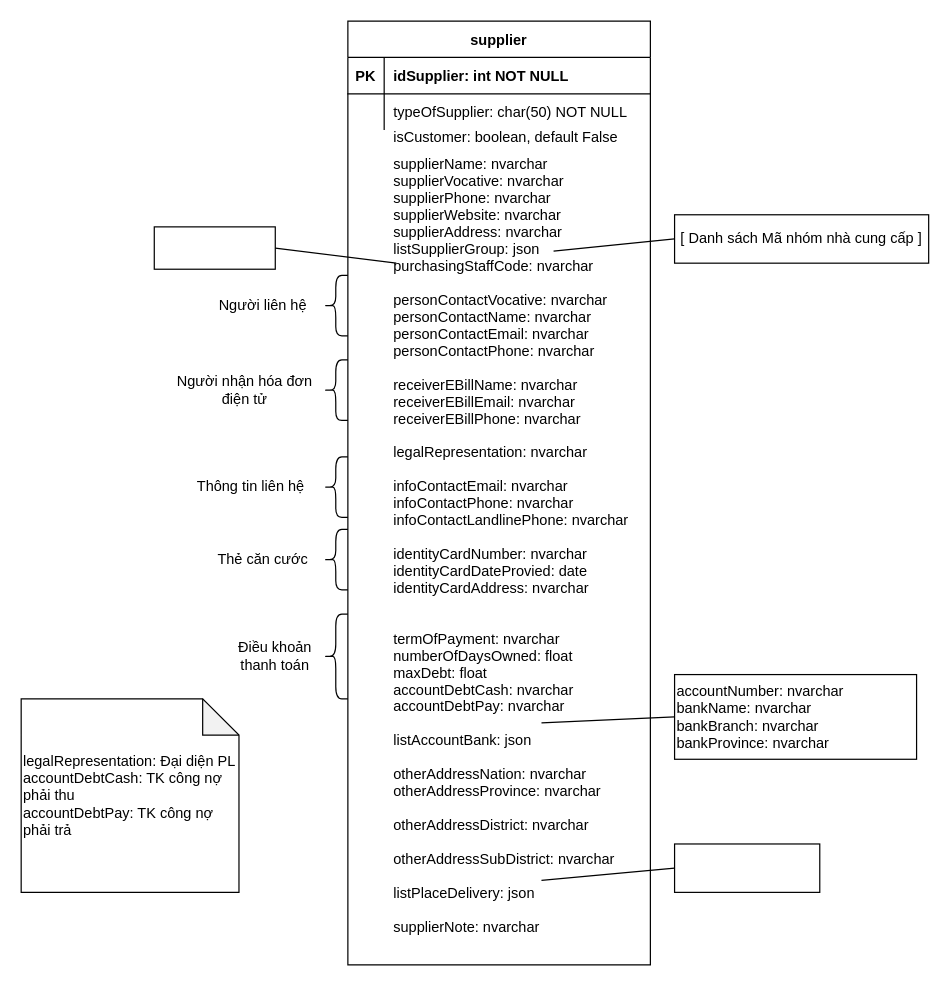
The diagram is 950 pixels wide and 990 high, and some of its shapes have lost their labels. The centre of each missing label's shape, as x and y in pixels:
"[ Danh sách địa chỉ ]" belongs at (746,867).
"Mã nhân viên mua hàng" belongs at (214,247).
